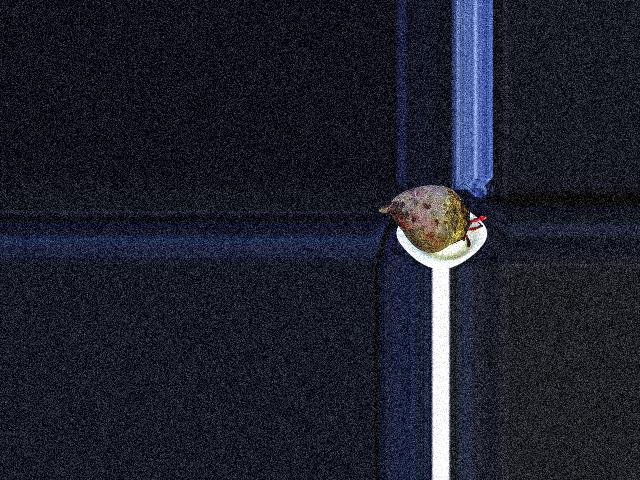beet: (379, 186, 486, 252)
